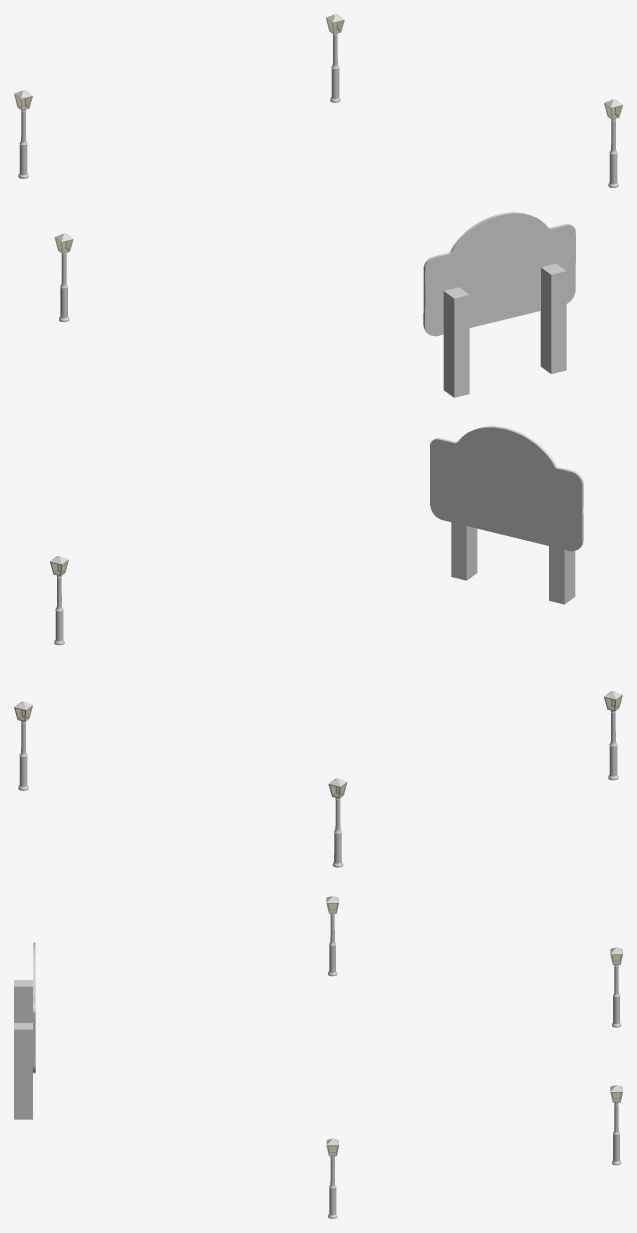
Rendered from sign.glb.
The picture shows the model from 3 angles, top to bottom: view 1: azimuth 30°, elevation 25°; view 2: azimuth 150°, elevation 25°; view 3: azimuth 270°, elevation 25°; orthographic projection. The views are drawn at different scales.
Parts seen in each view (by area): view 1: sign.001; view 2: sign.001; view 3: sign.001.
Part boxes in pixels (bbox=[...]): sign.001: bbox=[14, 14, 622, 397]; sign.001: bbox=[14, 426, 622, 867]; sign.001: bbox=[14, 896, 622, 1218].
Size of the model in its own units: 23.56 by 6.45 by 24.46.
